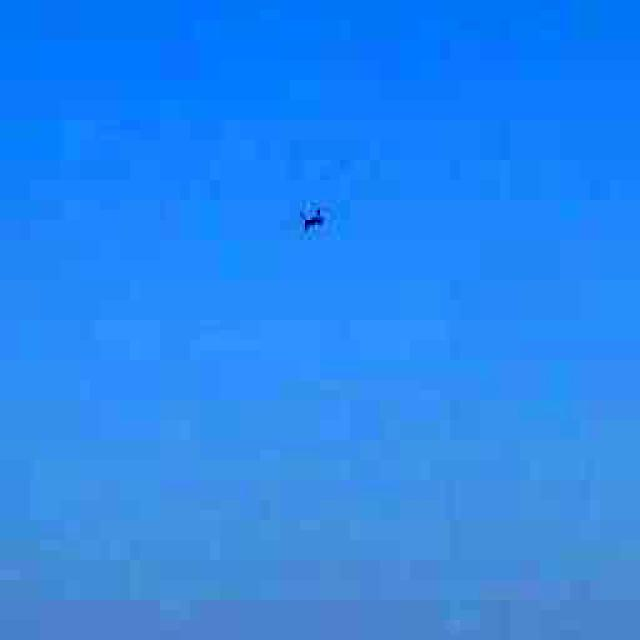bird: (280, 188, 345, 248)
